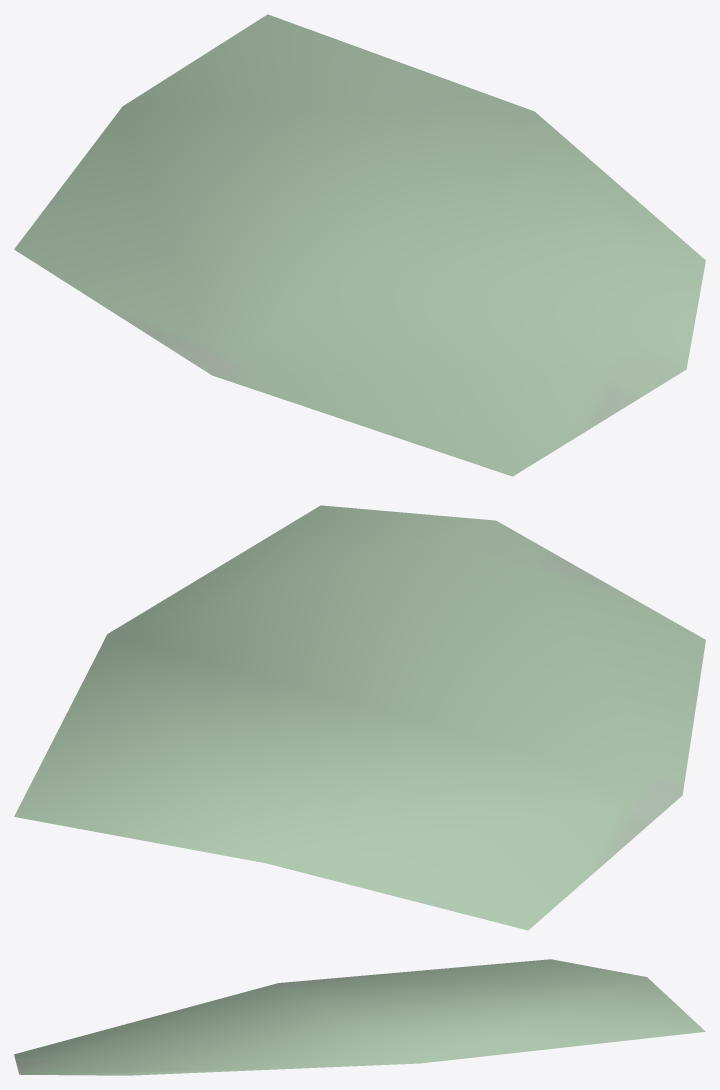
Rendered from TROLLHOLE02_HOLECAP13.fbx.
3 views of the same model, one above another, from view 1: azimuth 30°, elevation 25°; view 2: azimuth 150°, elevation 25°; view 3: azimuth 270°, elevation 25° (orthographic). The views are drawn at different scales.
Parts seen in each view (by area): view 1: TROLLHOLE02_HOLECAP13; view 2: TROLLHOLE02_HOLECAP13; view 3: TROLLHOLE02_HOLECAP13.
Part boxes in pixels (<box>): TROLLHOLE02_HOLECAP13: <box>14,14,705,476</box>; TROLLHOLE02_HOLECAP13: <box>14,505,705,930</box>; TROLLHOLE02_HOLECAP13: <box>14,959,705,1075</box>.
Size of the model in its own units: 23910 by 6200 by 39400.
Materials: 1 (1 with a texture image).
